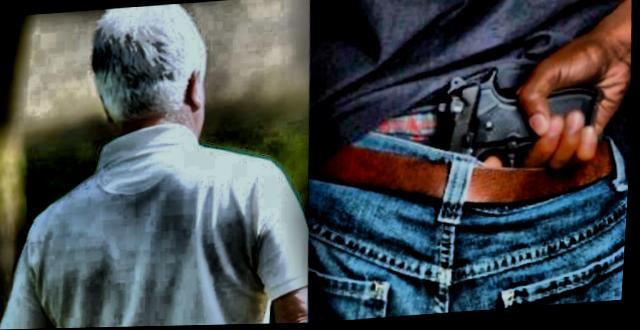pistol: (439, 48, 614, 191)
